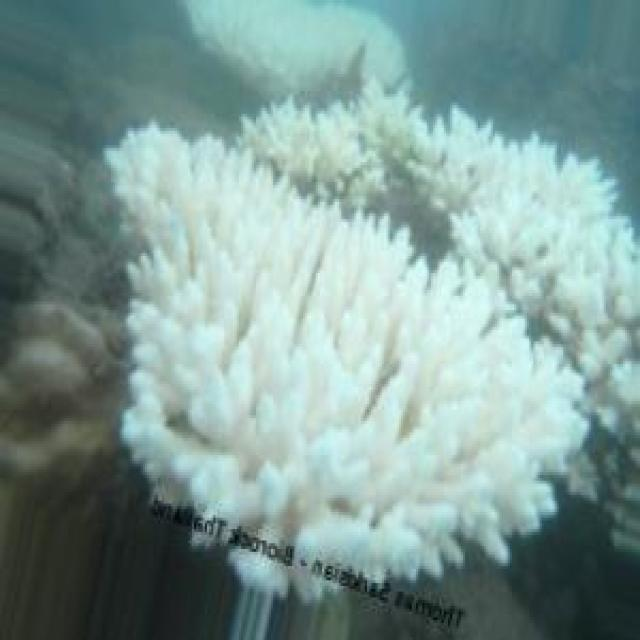bleached coral: (112, 127, 576, 574), (431, 110, 640, 331), (241, 90, 386, 209), (203, 17, 365, 100), (137, 307, 224, 432), (215, 182, 331, 270), (471, 202, 565, 310), (119, 128, 186, 245), (459, 441, 538, 535), (403, 137, 493, 216), (439, 327, 527, 407), (343, 262, 407, 367), (365, 418, 435, 506), (254, 461, 326, 546), (256, 321, 314, 421), (318, 125, 382, 196), (377, 90, 426, 169)
